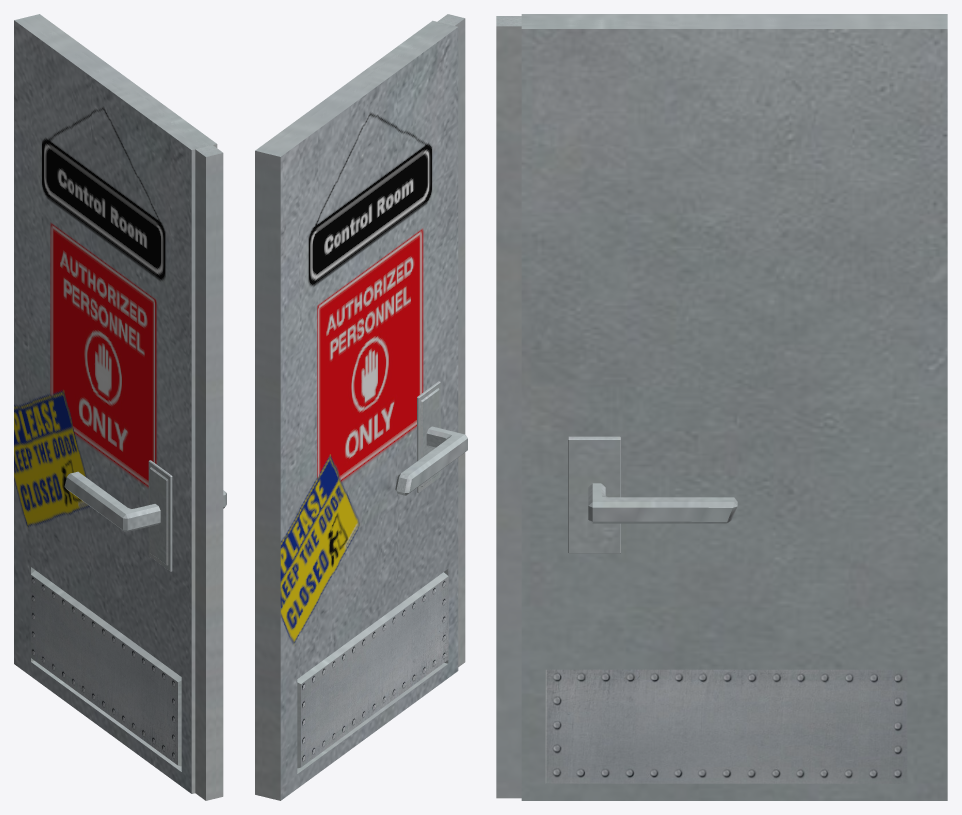
File: cdoor.fbx
3 views of the same model, side by side, from view 1: azimuth 30°, elevation 25°; view 2: azimuth 150°, elevation 25°; view 3: azimuth 270°, elevation 25° (orthographic). The views are drawn at different scales.
Visible parts, largest first — view 1: door4_pCube164; view 2: door4_pCube164; view 3: door4_pCube164.
Part boxes in pixels (bbox=[...]): door4_pCube164: bbox=[14, 14, 226, 800]; door4_pCube164: bbox=[255, 14, 467, 800]; door4_pCube164: bbox=[496, 14, 947, 800].
Bounding box in the file's own units: 45.21 × 267 × 142.
